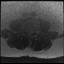CCS_normal: (29, 29, 30, 38)
LFS_normal: (32, 28, 34, 34)
LLS_normal: (30, 29, 32, 36)
RFS_stenosis: (25, 27, 26, 33)
RLS_normal: (27, 29, 29, 36)
